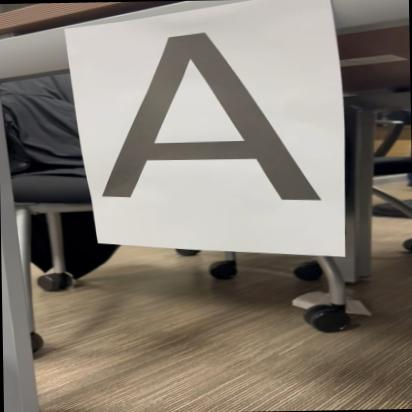seat: (98, 29, 324, 226)
